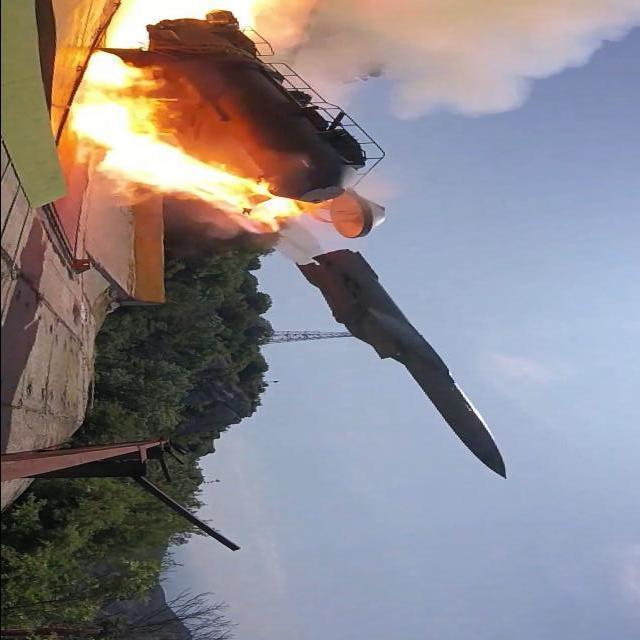missile: (301, 252, 528, 480)
